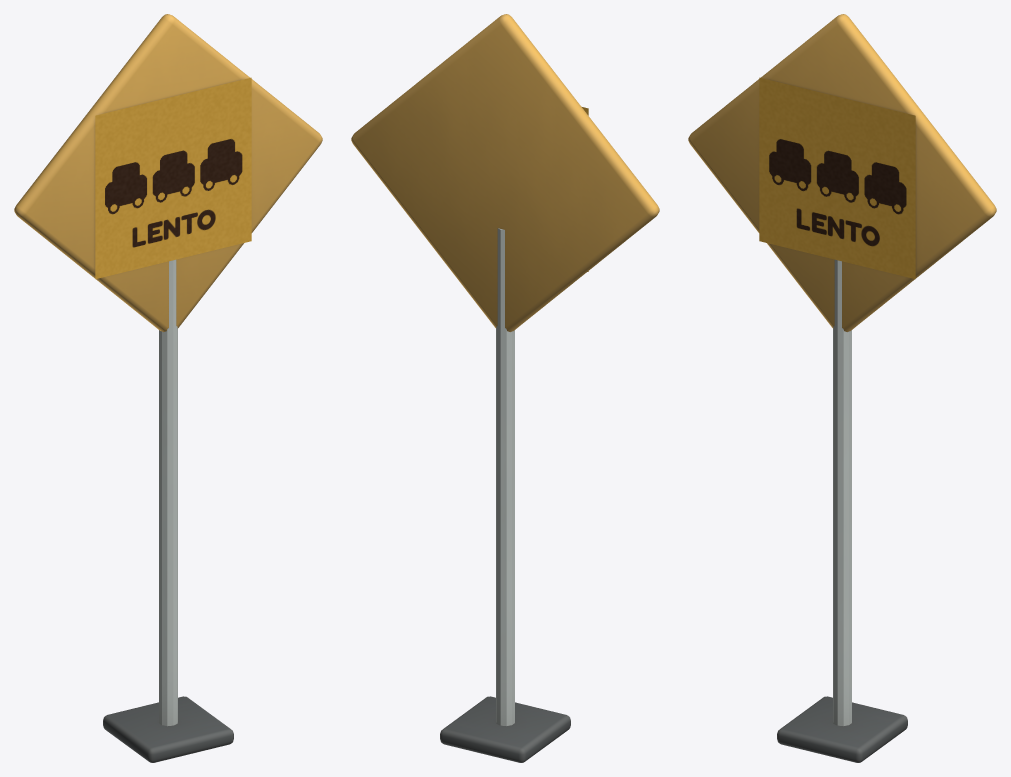
The model's file is SlowSign.fbx.
The picture shows the model from 3 angles, left to right: view 1: azimuth 30°, elevation 25°; view 2: azimuth 150°, elevation 25°; view 3: azimuth 330°, elevation 25°; orthographic projection.
Visible parts, largest first — view 1: SlowSign; view 2: SlowSign; view 3: SlowSign.
Boxes of the visible parts, bbox=[...] form: SlowSign: bbox=[14, 14, 322, 762]; SlowSign: bbox=[351, 14, 659, 762]; SlowSign: bbox=[688, 14, 996, 762].
Size of the model in its own units: 125 by 282 by 35.
